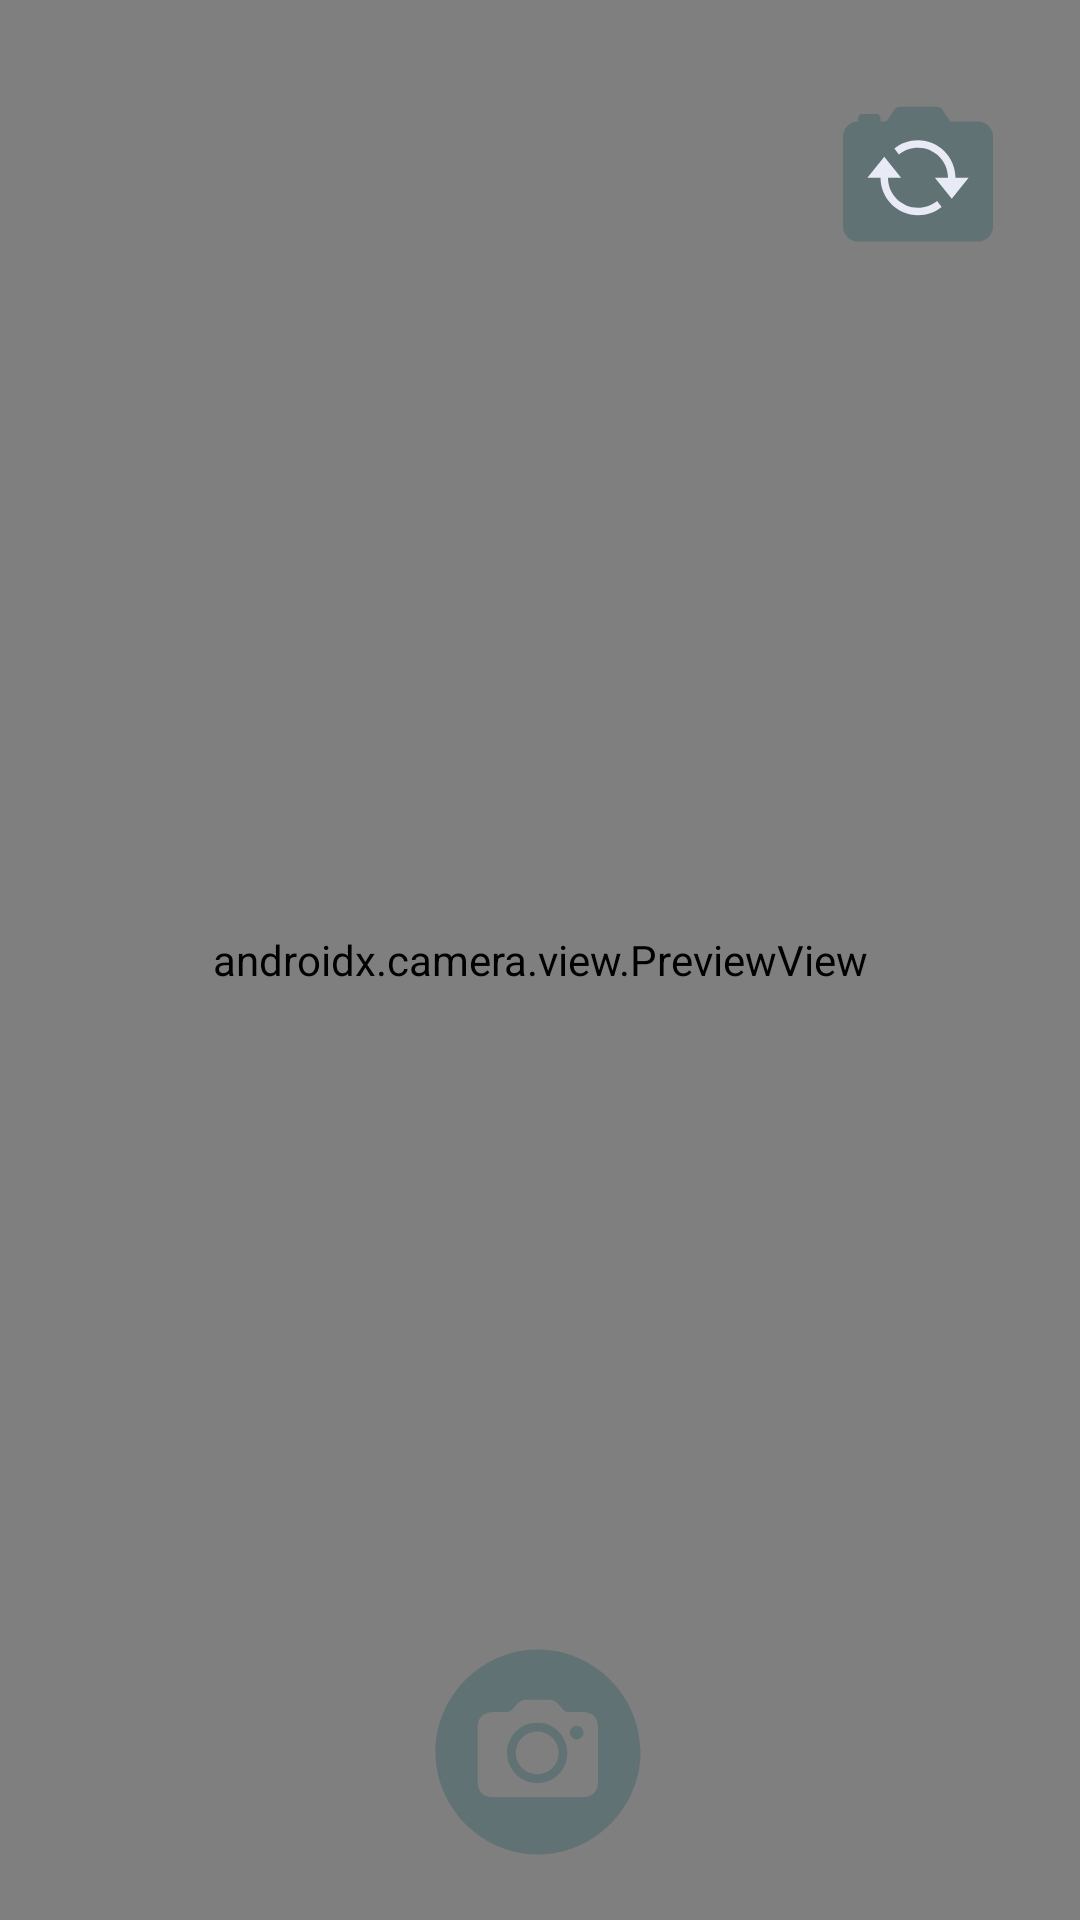

Screen size 1080x1920. Icon name, then its center in pixels as [x,y]:
icon ambil gambar: [538,1752]
icon putar kamera: [918,174]
